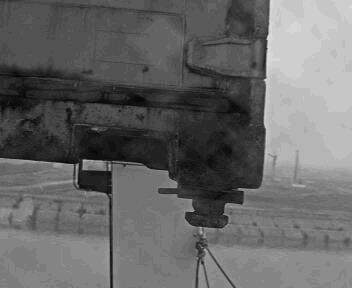twist_lock_1: (167, 181, 252, 238)
